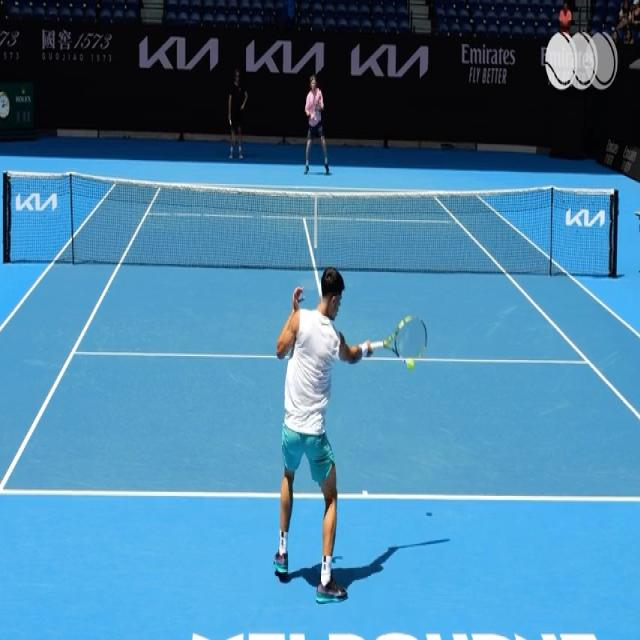forehand-stroke: (272, 268, 431, 602)
